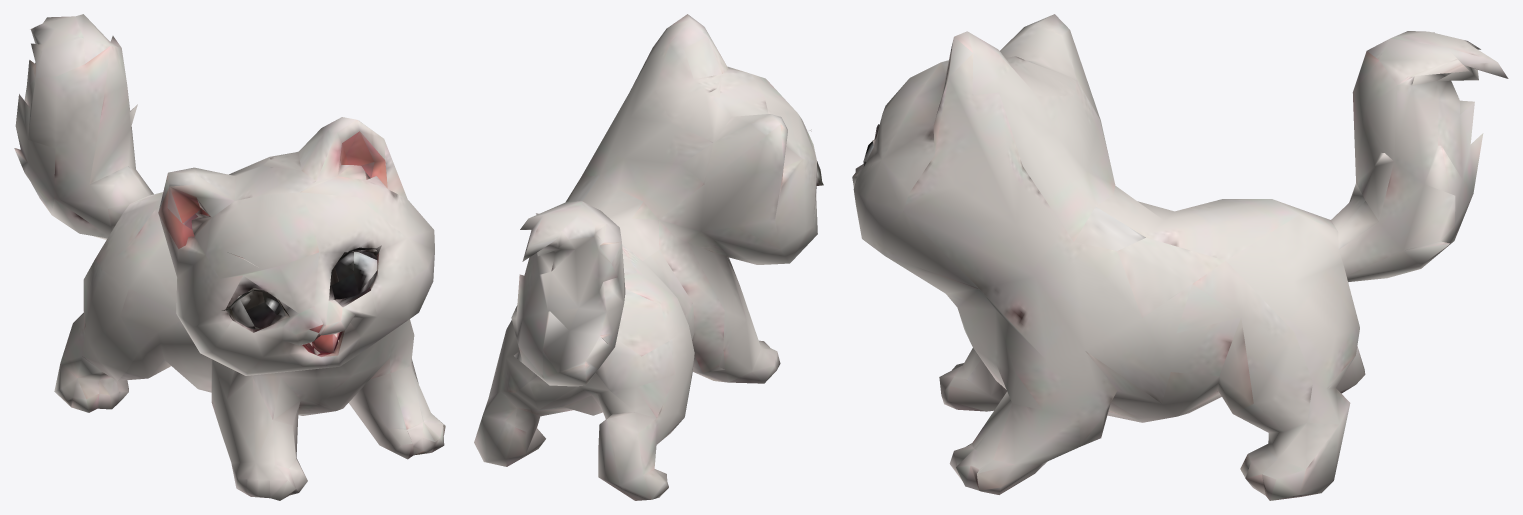
File: gato-branco-m35h.glb
3 views of the same model, side by side, from view 1: azimuth 30°, elevation 25°; view 2: azimuth 150°, elevation 25°; view 3: azimuth 270°, elevation 25° (orthographic). The views are drawn at different scales.
Visible parts, largest first — view 1: gato_branco, rabo; view 2: gato_branco, rabo; view 3: gato_branco, rabo.
Boxes of the visible parts, box(x1,y1,x2,y2) form: gato_branco: box(54, 117, 445, 500); rabo: box(14, 14, 153, 239); gato_branco: box(474, 14, 823, 500); rabo: box(511, 201, 625, 386); gato_branco: box(852, 14, 1365, 500); rabo: box(1331, 31, 1508, 282).
Bounding box in the file's own units: 0.1278 × 0.1828 × 0.2528.
Materials: 1 (1 with a texture image).
